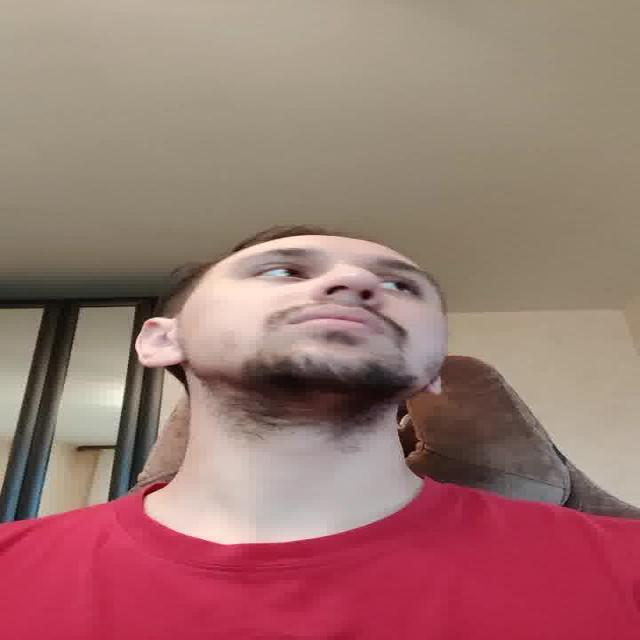earlobe: (146, 354, 186, 368), (423, 381, 445, 397)
eye: (253, 266, 314, 282), (379, 277, 422, 296)
nose: (316, 292, 388, 311)
wholeear: (137, 316, 187, 369)
